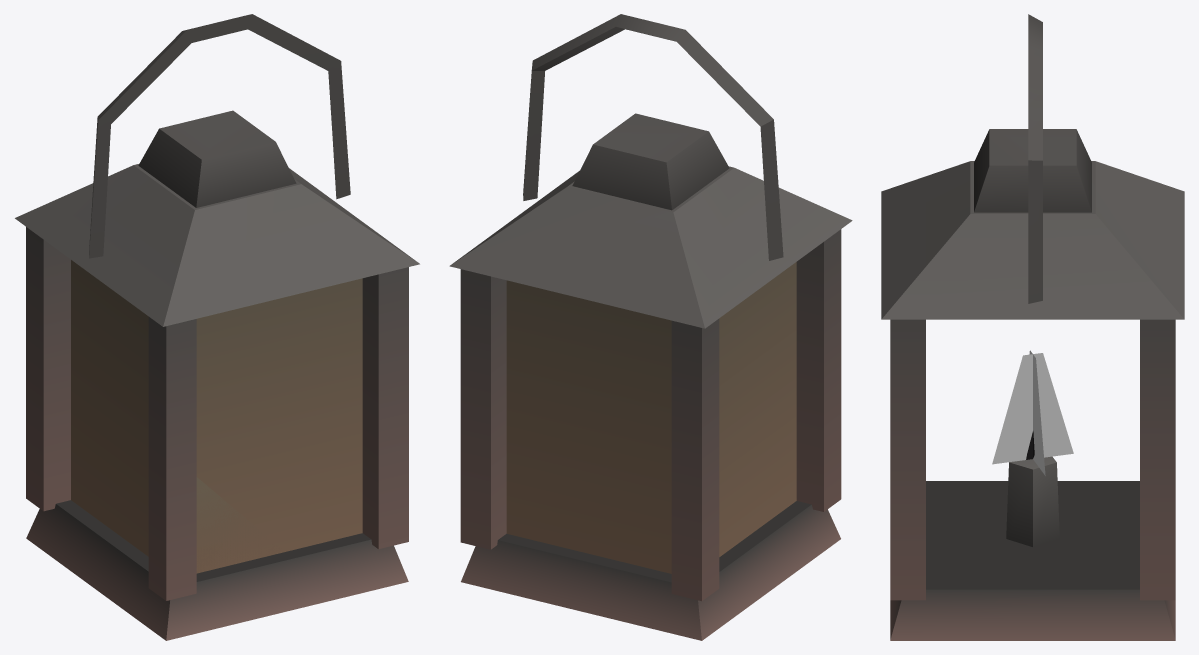
File: prop_lantern.glb
3 views of the same model, side by side, from view 1: azimuth 30°, elevation 25°; view 2: azimuth 150°, elevation 25°; view 3: azimuth 270°, elevation 25° (orthographic). The views are drawn at different scales.
Visible parts, largest first — view 1: lantern_dark; view 2: lantern_dark; view 3: lantern_dark, lantern_lit.
Part boxes in pixels (x1=…): lantern_dark: x1=15, y1=14, x2=419, y2=640; lantern_dark: x1=449, y1=14, x2=852, y2=640; lantern_dark: x1=881, y1=14, x2=1184, y2=640; lantern_lit: x1=992, y1=350, x2=1073, y2=475.
Bounding box in the file's own units: 0.1729 × 0.3406 × 0.1699.
